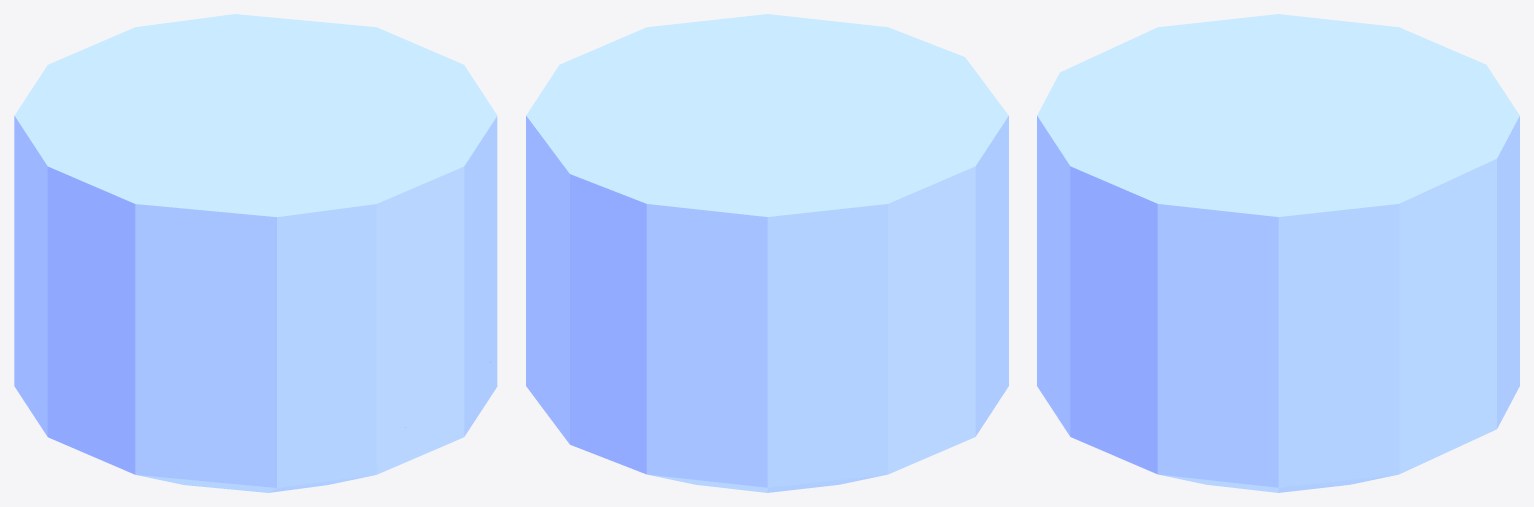
The model's file is lyoko_mountain_sector.glb.
3 renders of one model, left to right at view 1: azimuth 30°, elevation 25°; view 2: azimuth 150°, elevation 25°; view 3: azimuth 270°, elevation 25°, orthographic.
Visible parts, largest first — view 1: Mesh_0043.001_Tex_0030_0_dds_0; view 2: Mesh_0043.001_Tex_0030_0_dds_0; view 3: Mesh_0043.001_Tex_0030_0_dds_0.
Boxes of the visible parts, <box> form: Mesh_0043.001_Tex_0030_0_dds_0: <box>14,14,497,492</box>; Mesh_0043.001_Tex_0030_0_dds_0: <box>526,14,1008,492</box>; Mesh_0043.001_Tex_0030_0_dds_0: <box>1037,14,1519,492</box>.
Size of what is drawn, in the model's own units: 725 by 587 by 729.
